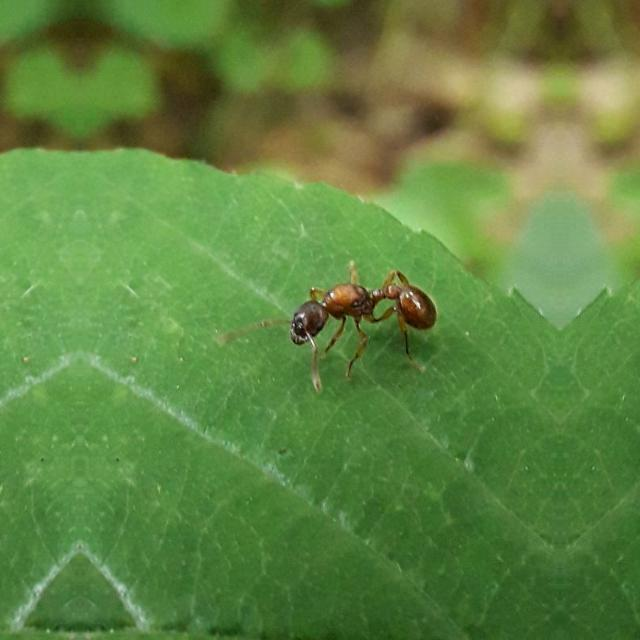Myrmica: (259, 226, 451, 384)
